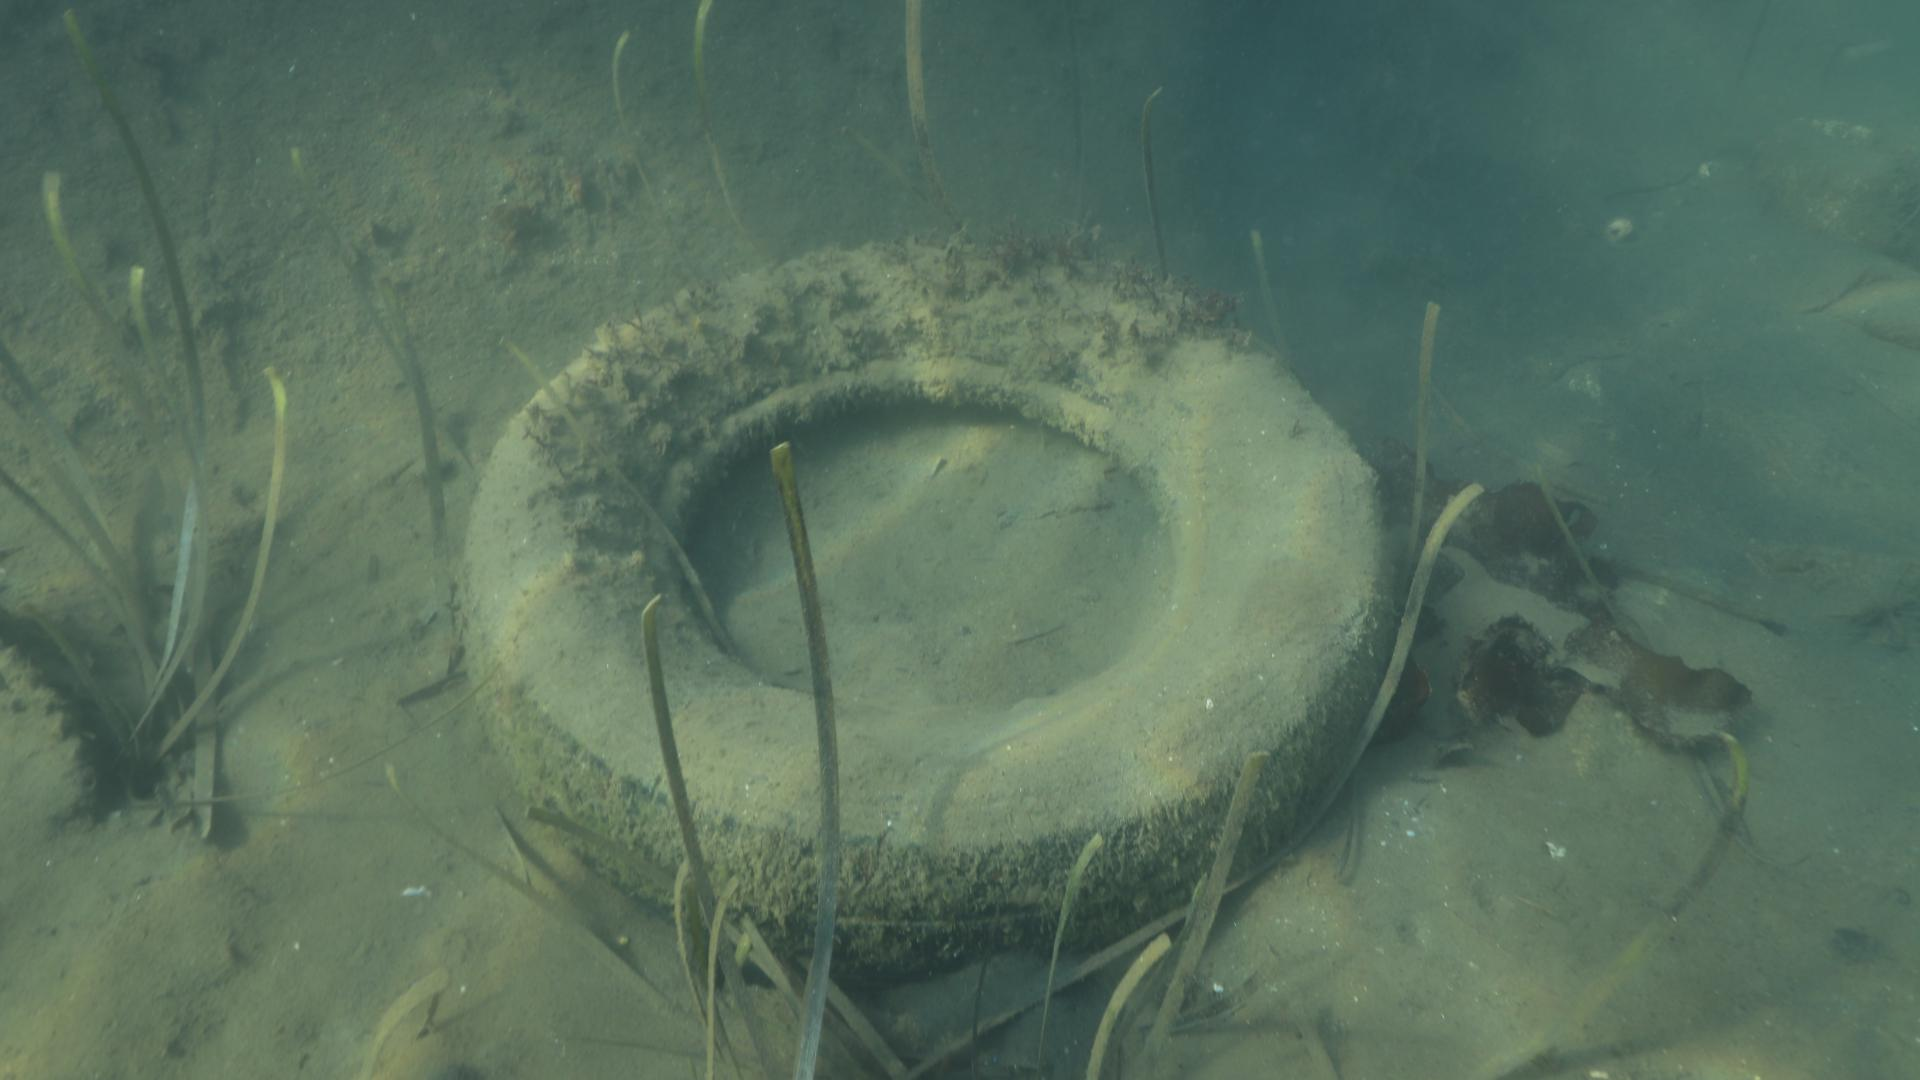tire: (467, 243, 1396, 978)
